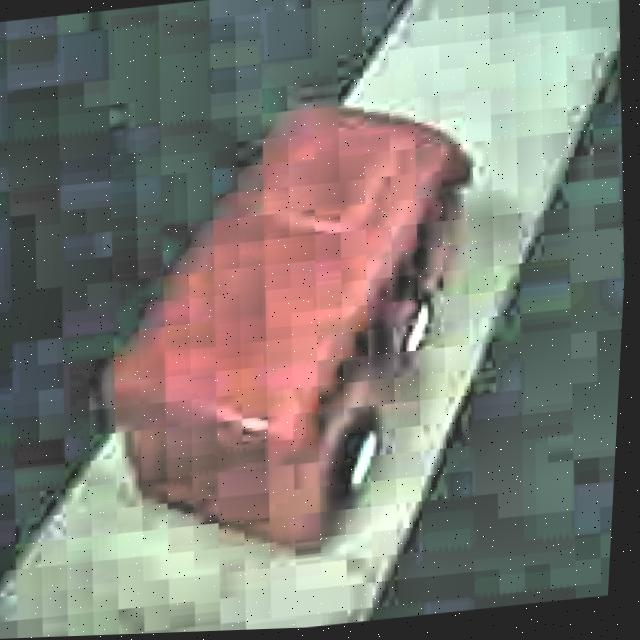bus: (81, 81, 505, 583)
